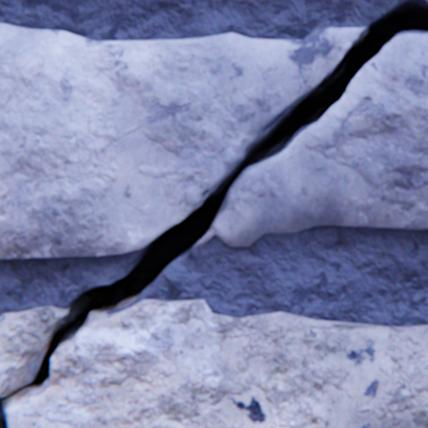broken_brick: (0, 23, 366, 257), (5, 299, 427, 427), (194, 34, 427, 245), (0, 305, 69, 395)
crack: (0, 0, 427, 427)
